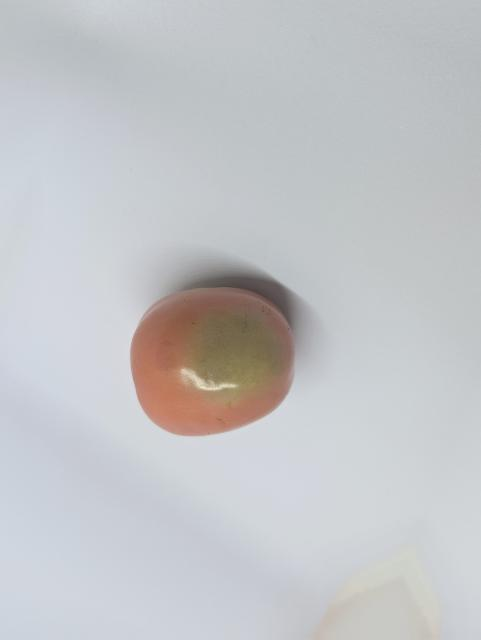turning: (120, 282, 302, 440)
